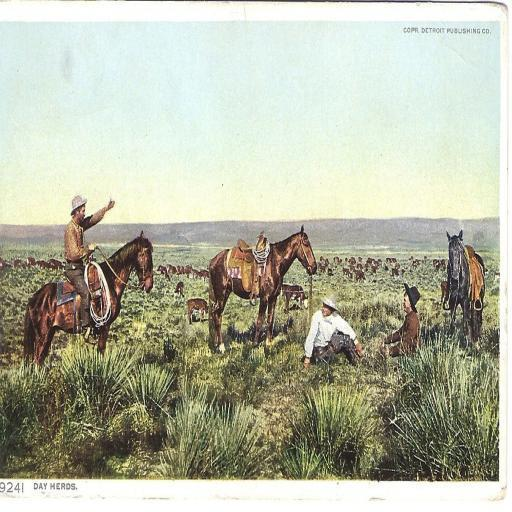horse: (22, 230, 155, 365), (208, 224, 320, 355), (446, 227, 488, 356)
